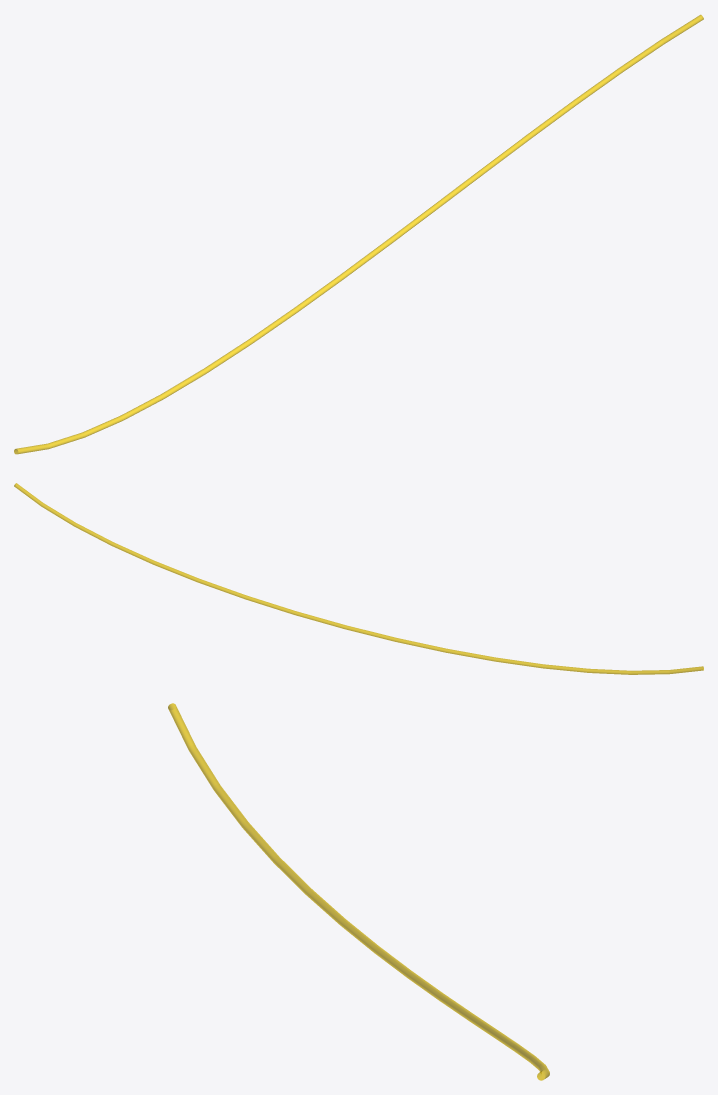
The model's file is Event_100608114_track_53.fbx.
3 renders of one model, top to bottom at view 1: azimuth 30°, elevation 25°; view 2: azimuth 150°, elevation 25°; view 3: azimuth 270°, elevation 25°, orthographic. The views are drawn at different scales.
Parts seen in each view (by area): view 1: Model; view 2: Model; view 3: Model.
Part boxes in pixels (<box>): Model: <box>14,14,703,454</box>; Model: <box>14,483,703,674</box>; Model: <box>168,703,549,1080</box>.
Size of the model in its own units: 6.49 by 1.27 by 1.8.
